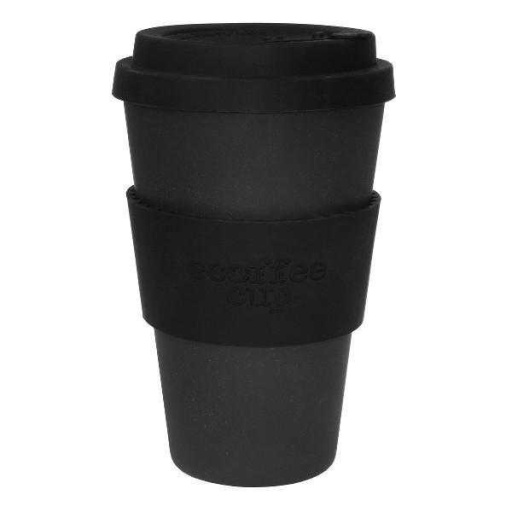cup: (111, 22, 396, 487)
